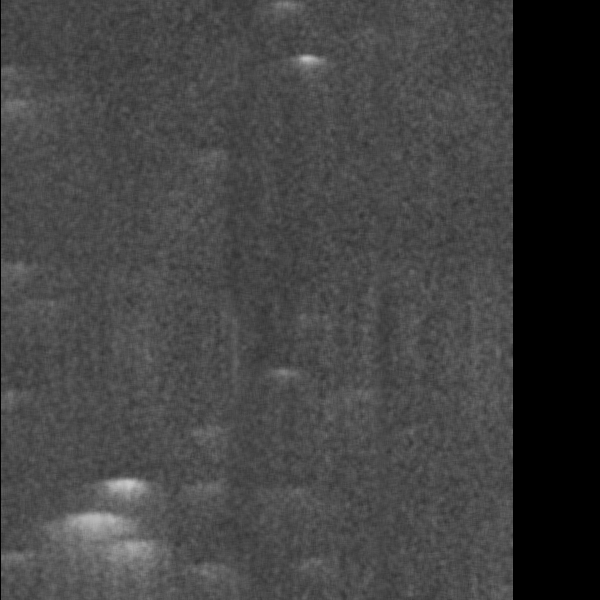spark: (148, 483, 201, 600), (291, 403, 347, 462), (483, 277, 515, 373), (269, 241, 315, 299), (286, 56, 344, 92), (322, 271, 350, 330), (382, 182, 412, 233), (241, 418, 277, 451), (383, 364, 409, 405), (141, 259, 183, 284), (59, 280, 84, 316)
